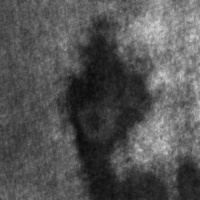patches: (53, 19, 166, 199), (168, 150, 199, 199)
